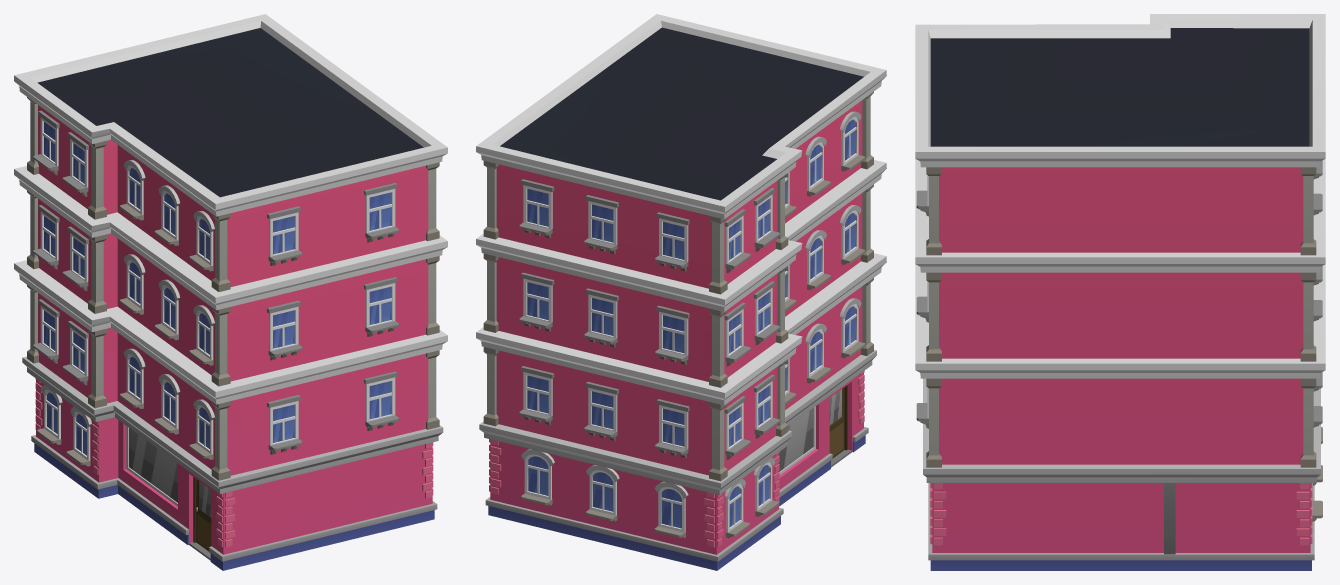
The model's file is Building_1_4_C.fbx.
3 views of the same model, side by side, from view 1: azimuth 30°, elevation 25°; view 2: azimuth 150°, elevation 25°; view 3: azimuth 270°, elevation 25° (orthographic). The views are drawn at different scales.
Parts seen in each view (by area): view 1: Building_1_4_C; view 2: Building_1_4_C; view 3: Building_1_4_C.
Part boxes in pixels (x1=…): Building_1_4_C: x1=14, y1=14, x2=447, y2=570; Building_1_4_C: x1=476, y1=14, x2=886, y2=570; Building_1_4_C: x1=915, y1=14, x2=1325, y2=570.
Bounding box in the file's own units: 841 × 1201 × 1057.
